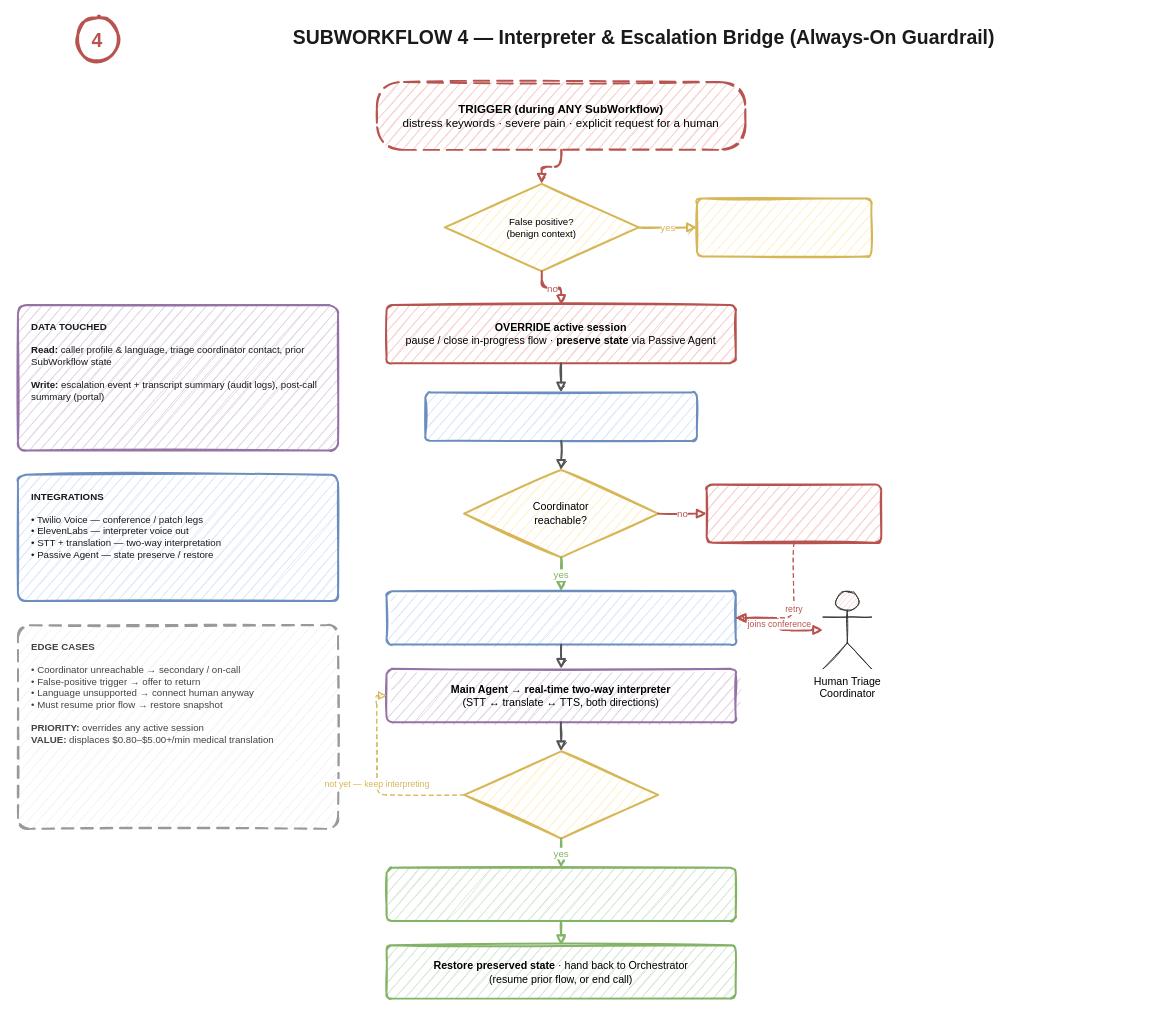
Image size: 1169x1017. Some labels were removed from this diagram. Here are the shapes that lost their labels. From the top down, the centre of each, then its label:
At pixel 783 227: "Offer to return to prior SubWorkflow".
At pixel 560 416: "Hot-dial triage coordinator (Twilio)".
At pixel 793 513: "Fall back to secondary / on-call".
At pixel 560 617: "Patch the lines — Twilio conference (caller + coordinator + agent)".
At pixel 561 794: "Crisis resolved?".
At pixel 560 894: "Log escalation + transcript summary → audit logs & staff portal".
